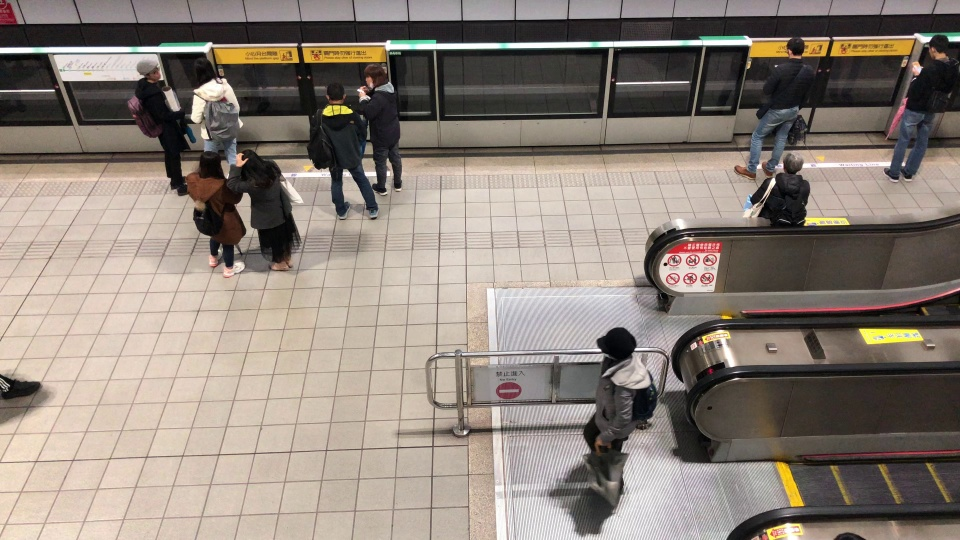person_head: (238, 149, 266, 189), (597, 329, 627, 361), (187, 57, 217, 88), (196, 150, 226, 180), (362, 63, 389, 90), (926, 35, 951, 60), (134, 57, 161, 80), (323, 82, 346, 106), (781, 151, 804, 175), (784, 36, 805, 60)
person_vbox: (579, 328, 659, 507), (731, 36, 814, 180), (881, 34, 960, 180), (306, 82, 379, 220), (225, 149, 301, 273), (125, 57, 191, 196), (183, 150, 246, 278), (182, 57, 243, 169), (356, 63, 407, 196), (740, 152, 810, 228)
